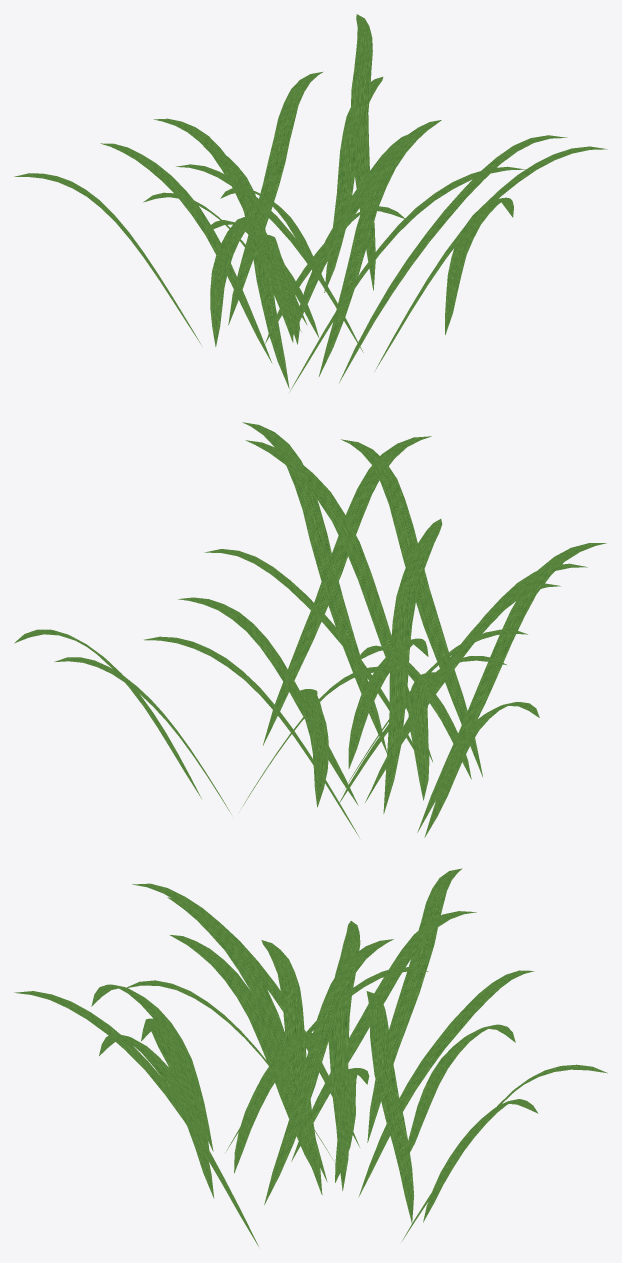
File: PZ_Crop_Wheat_Sprout.glb
3 renders of one model, top to bottom at view 1: azimuth 30°, elevation 25°; view 2: azimuth 150°, elevation 25°; view 3: azimuth 270°, elevation 25°, orthographic. The views are drawn at different scales.
Parts seen in each view (by area): view 1: PZ_Crop_Wheat_Sprout_02_Slender_Grass_Blades; view 2: PZ_Crop_Wheat_Sprout_02_Slender_Grass_Blades; view 3: PZ_Crop_Wheat_Sprout_02_Slender_Grass_Blades.
Boxes of the visible parts, left/top/right/bottom form: PZ_Crop_Wheat_Sprout_02_Slender_Grass_Blades: left=14, top=14, right=607, bottom=392; PZ_Crop_Wheat_Sprout_02_Slender_Grass_Blades: left=14, top=422, right=606, bottom=837; PZ_Crop_Wheat_Sprout_02_Slender_Grass_Blades: left=14, top=868, right=607, bottom=1246.
Size of the model in its own units: 0.2698 by 0.1334 by 0.2888.
Materials: 1 (1 with a texture image).
